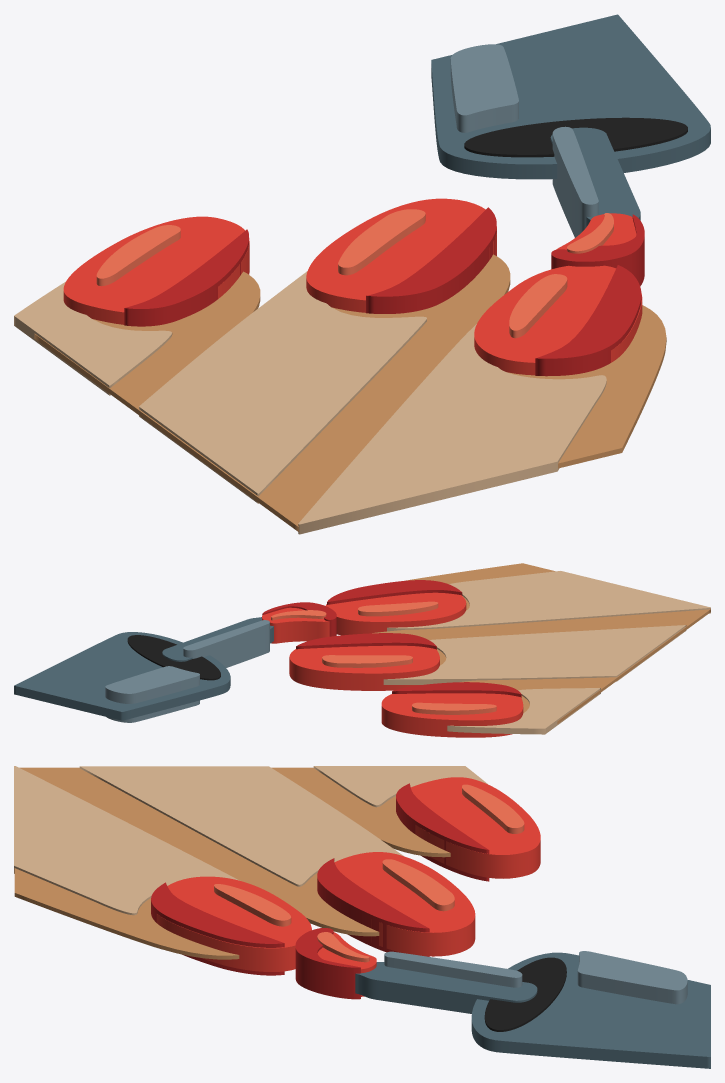
Rendered from emoji_u1f485_1f3fc.glb.
3 views of the same model, one above another, from view 1: azimuth 30°, elevation 25°; view 2: azimuth 150°, elevation 25°; view 3: azimuth 270°, elevation 25° (orthographic). The views are drawn at different scales.
Parts seen in each view (by area): view 1: emoji_u1f485_1f3fc; view 2: emoji_u1f485_1f3fc; view 3: emoji_u1f485_1f3fc.
Boxes of the visible parts, left/top/right/bottom form: emoji_u1f485_1f3fc: left=14, top=14, right=710, bottom=534; emoji_u1f485_1f3fc: left=14, top=563, right=710, bottom=737; emoji_u1f485_1f3fc: left=14, top=766, right=710, bottom=1068.
Size of the model in its own units: 0.0319 by 0.002 by 0.032.
